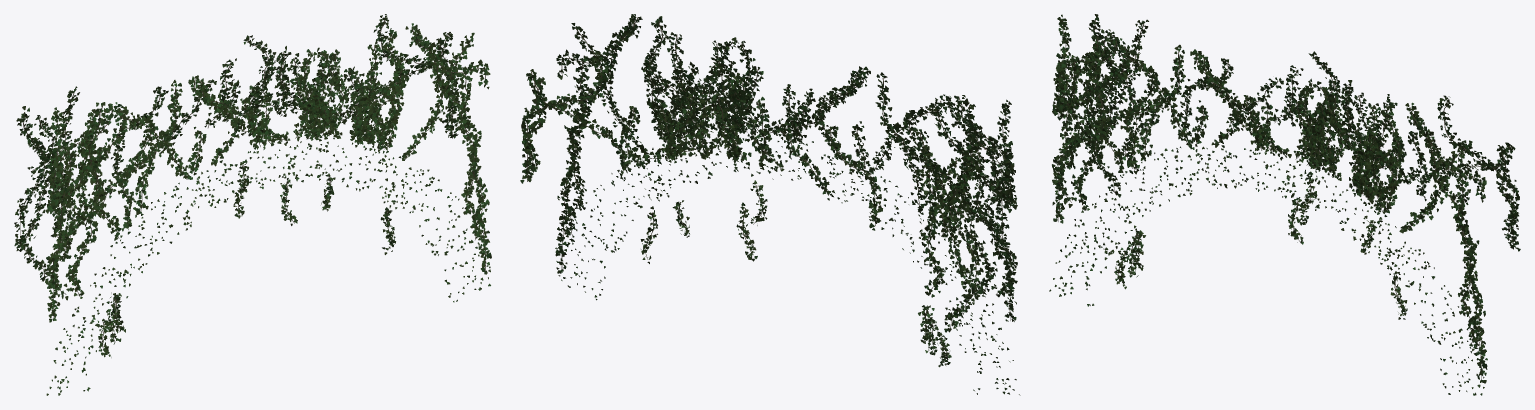
Rendered from ER_Rideau_Lierre_Grand_Arc_8m.gltf.
3 views of the same model, side by side, from view 1: azimuth 30°, elevation 25°; view 2: azimuth 150°, elevation 25°; view 3: azimuth 330°, elevation 25° (orthographic). The views are drawn at different scales.
Visible parts, largest first — view 1: ER_Rideau_Lierre_Grand_Arc_8m_FEU.001, ER_Rideau_Lierre_Grand_Arc_8m_TIG.001; view 2: ER_Rideau_Lierre_Grand_Arc_8m_FEU.001, ER_Rideau_Lierre_Grand_Arc_8m_TIG.001; view 3: ER_Rideau_Lierre_Grand_Arc_8m_FEU.001, ER_Rideau_Lierre_Grand_Arc_8m_TIG.001.
Boxes of the visible parts, box(x1,y1,x2,y2) form: ER_Rideau_Lierre_Grand_Arc_8m_FEU.001: box(14, 14, 491, 395); ER_Rideau_Lierre_Grand_Arc_8m_TIG.001: box(20, 20, 485, 354); ER_Rideau_Lierre_Grand_Arc_8m_FEU.001: box(520, 14, 1020, 395); ER_Rideau_Lierre_Grand_Arc_8m_TIG.001: box(527, 17, 1010, 364); ER_Rideau_Lierre_Grand_Arc_8m_FEU.001: box(1049, 14, 1520, 395); ER_Rideau_Lierre_Grand_Arc_8m_TIG.001: box(1058, 20, 1514, 380).
Size of the model in its own units: 8.27 by 5.16 by 1.25.
